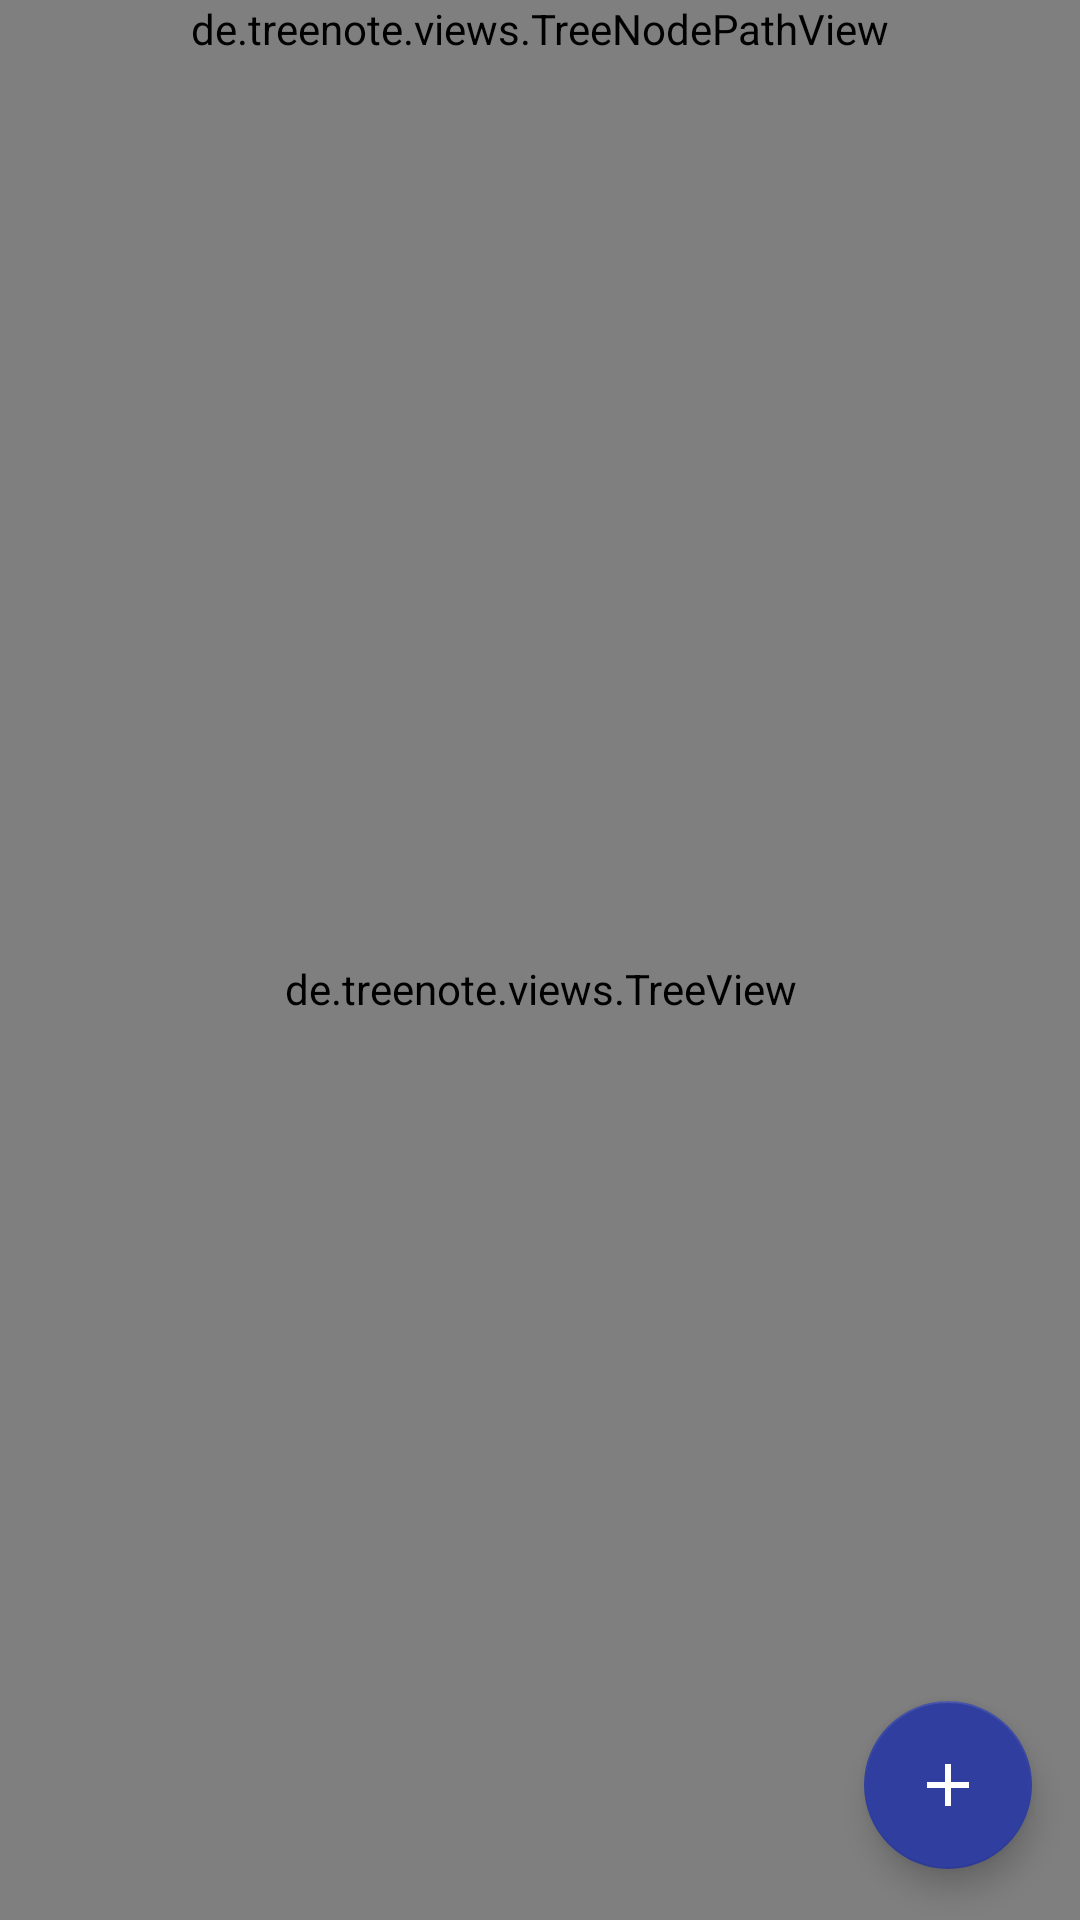

Icon click points for this 1080 × 1920 phone screenshot, format (x=x, y=y):
add: (x=948, y=1785)
